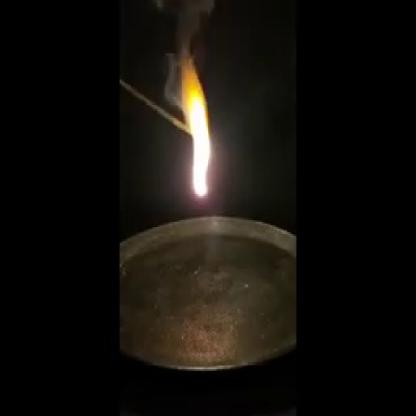fire: (177, 54, 218, 201)
